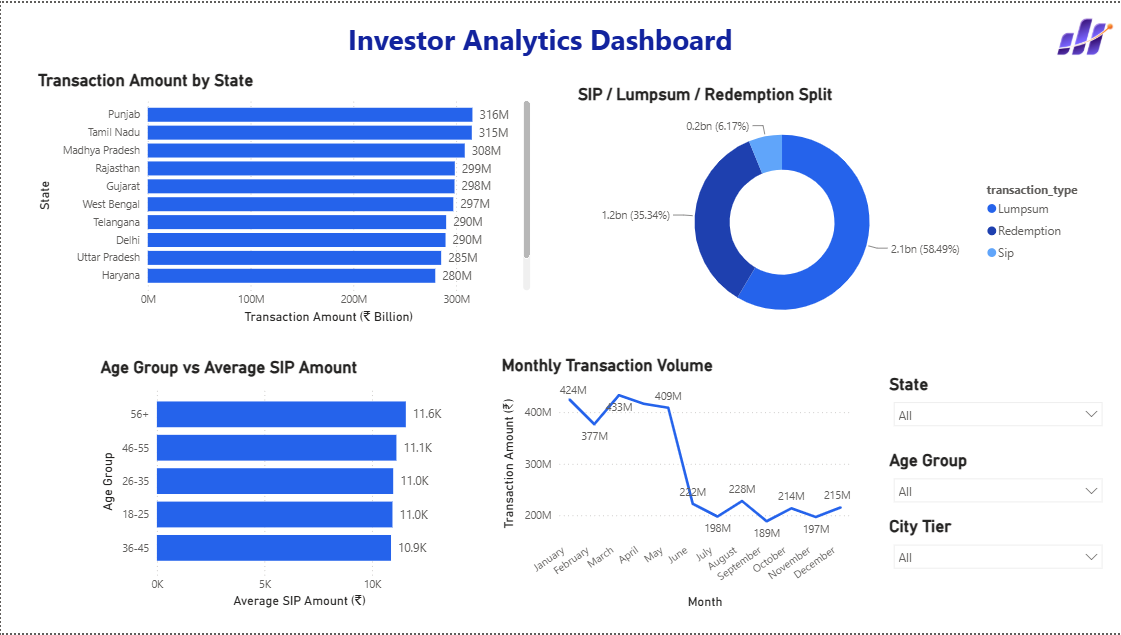

The page's visual inventory and layout, read from the dashboard file:
{"tool":"powerbi","page":{"name":"Investor Analytics","canvas":[1280,720],"ordinal":2},"visuals":[{"type":"clusteredBarChart","title":"Transaction Amount by State","fields":{"Category":["investor_transactions_clean.state"],"Y":["Sum(investor_transactions_clean.amount_inr)"]},"box":[37.2,77.4,572.8,294.1],"z":0},{"type":"donutChart","title":"SIP / Lumpsum / Redemption Split","fields":{"Category":["investor_transactions_clean.transaction_type"],"Y":["Sum(investor_transactions_clean.amount_inr)"]},"box":[654.9,92.9,596,294.1],"z":1000},{"type":"lineChart","title":"Monthly Transaction Volume","fields":{"Category":["investor_transactions_clean.transaction_date.Variation.Date Hierarchy.Year","investor_transactions_clean.transaction_date.Variation.Date Hierarchy.Quarter","investor_transactions_clean.transaction_date.Variation.Date Hierarchy.Month","investor_transactions_clean.transaction_date.Variation.Date Hierarchy.Day"],"Y":["Sum(investor_transactions_clean.amount_inr)"]},"box":[566.6,402.5,408.7,294.1],"z":2000},{"type":"clusteredBarChart","title":"Age Group vs Average SIP Amount","fields":{"Category":["investor_transactions_clean.age_group"],"Y":["Avg(investor_transactions_clean.amount_inr)"]},"box":[108.4,405.6,410.3,291.1],"z":3000},{"type":"slicer","title":"State","fields":{"Values":["investor_transactions_clean.state"]},"box":[1010,423.6,258.5,71.2],"z":4000},{"type":"slicer","title":"Age Group","fields":{"Values":["investor_transactions_clean.age_group"]},"box":[1010.3,511.5,258.5,75.9],"z":5000},{"type":"slicer","title":"City Tier","fields":{"Values":["investor_transactions_clean.city_tier"]},"box":[1010.6,587.1,258.5,89.8],"z":6000},{"type":"textbox","box":[391.7,13.9,566.6,52.6],"z":7000},{"type":"image","box":[1193.8,0,86.4,76.8],"z":7001}]}

Visuals, with their boxes in screenshot pixels (x1, y1, x2, y2), scaled from the page's 1280x720 canvas onto the 1121x635 screenshot:
"Transaction Amount by State" clusteredBarChart: (x1=33, y1=68, x2=534, y2=328)
"SIP / Lumpsum / Redemption Split" donutChart: (x1=574, y1=82, x2=1096, y2=341)
"Monthly Transaction Volume" lineChart: (x1=496, y1=355, x2=854, y2=614)
"Age Group vs Average SIP Amount" clusteredBarChart: (x1=95, y1=358, x2=454, y2=614)
"State" slicer: (x1=885, y1=374, x2=1111, y2=436)
"Age Group" slicer: (x1=885, y1=451, x2=1111, y2=518)
"City Tier" slicer: (x1=885, y1=518, x2=1111, y2=597)
textbox: (x1=343, y1=12, x2=839, y2=59)
image: (x1=1046, y1=0, x2=1120, y2=68)
